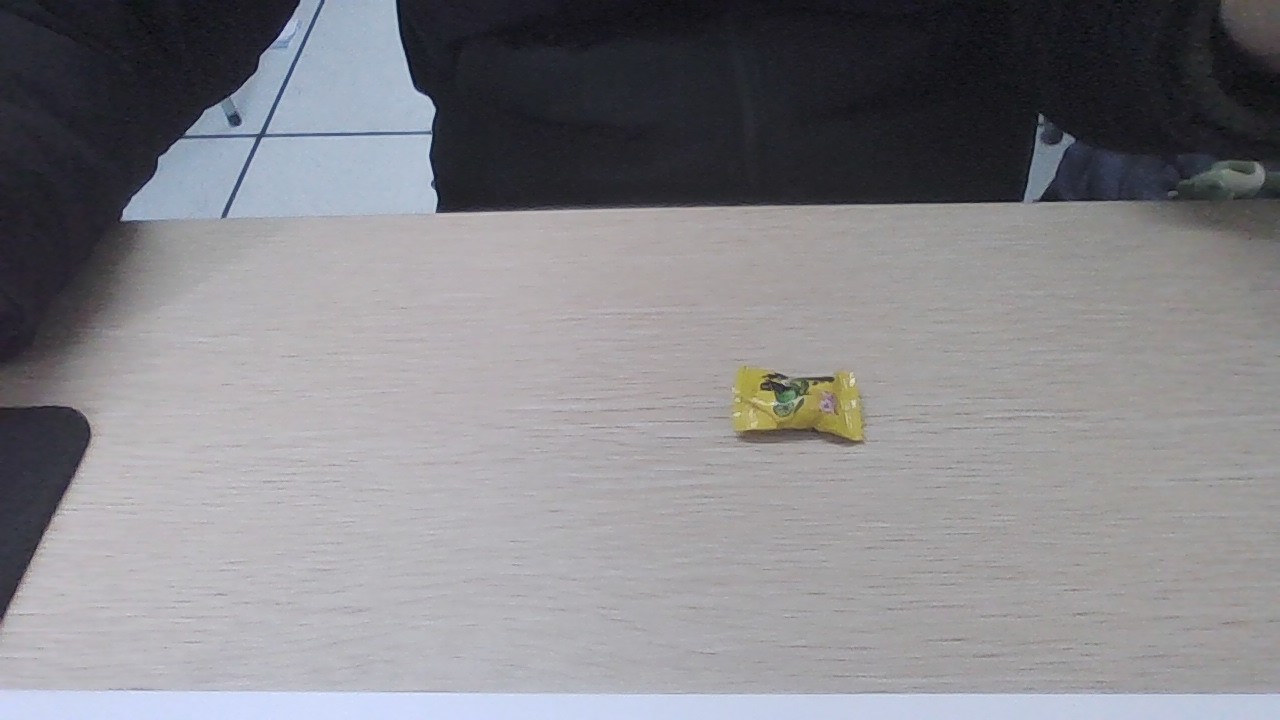CY-sugar: (728, 371, 862, 444)
